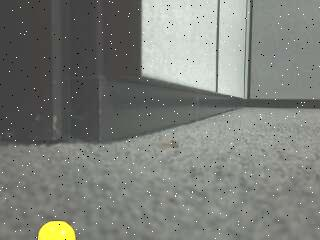Lemon: (36, 219, 78, 240)
